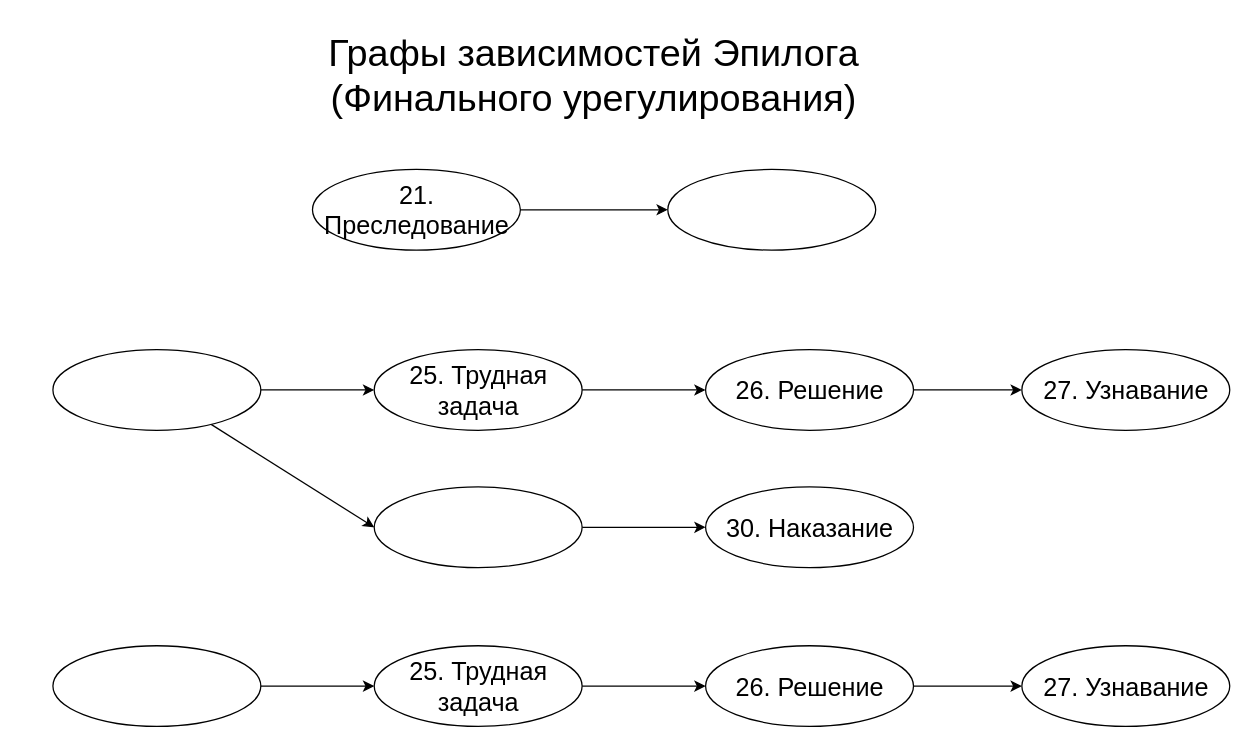
Some shapes in this 1251 by 748 pixel diagram are drawn without their labels. The shapes that lost their labels are listed below. From the top down, each one's centre as x and y in pixels, then its label:
At pixel 771 209: "22. Спасение".
At pixel 156 389: "24. Необоснованные притязания".
At pixel 477 527: "28. Обличение ложного героя".
At pixel 156 685: "23. Неузнанное прибытие".
